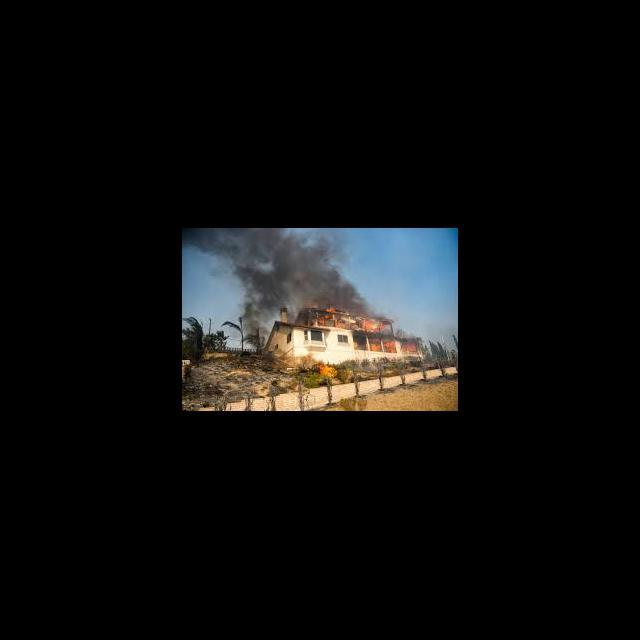Fire: (316, 308, 417, 353)
Smoke: (183, 229, 370, 307)
